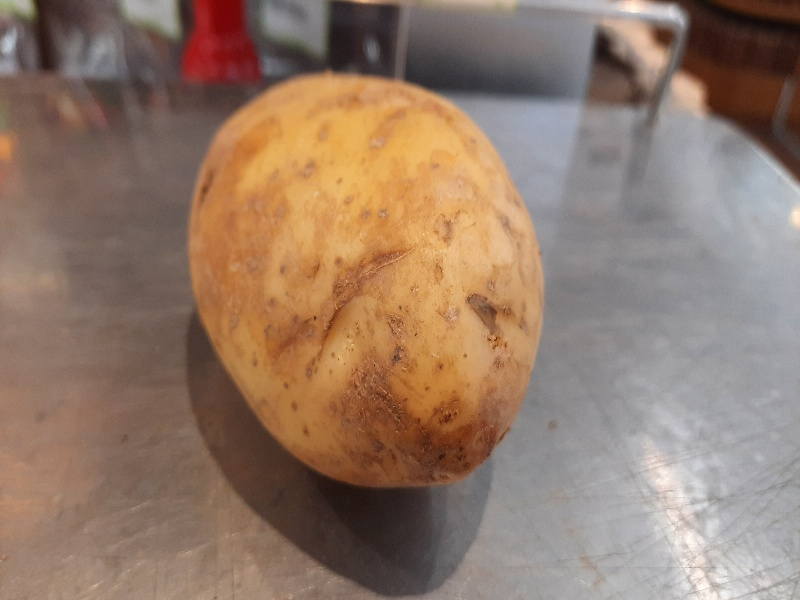vege: (171, 70, 548, 493)
